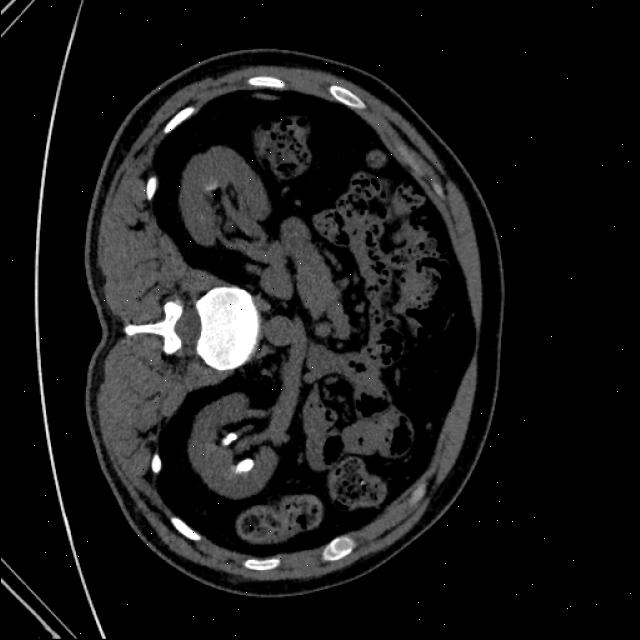kidneystone: (220, 432, 238, 446), (234, 459, 252, 472)
